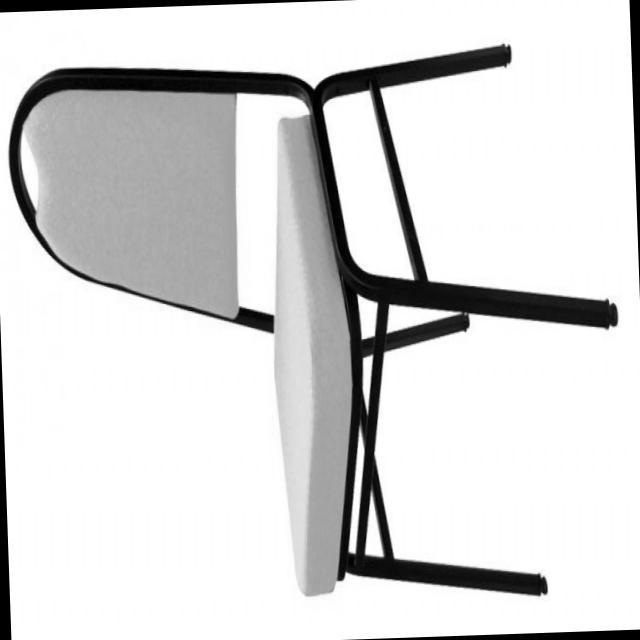chair: (5, 36, 628, 619)
